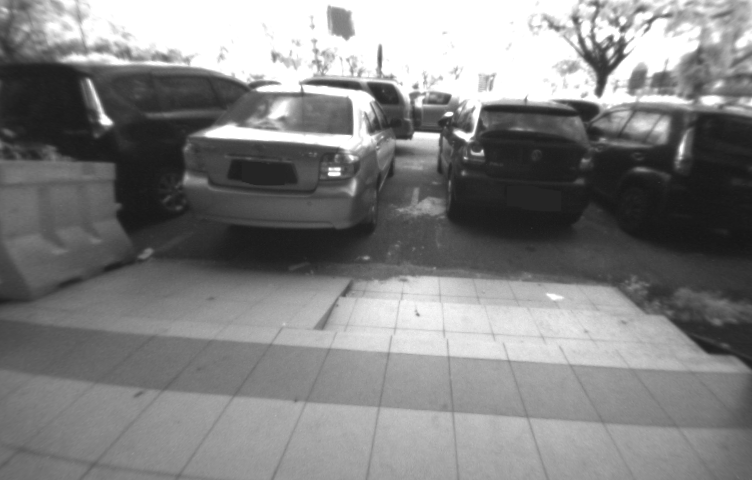down_steps: (312, 266, 747, 382)
mixed_gradient: (269, 266, 378, 354)
